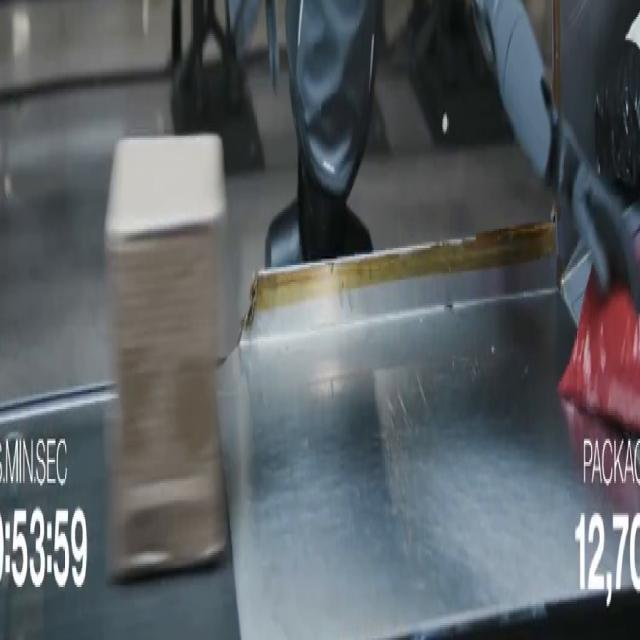package: (106, 136, 227, 578), (559, 272, 639, 432), (562, 403, 639, 512), (595, 15, 639, 201)
